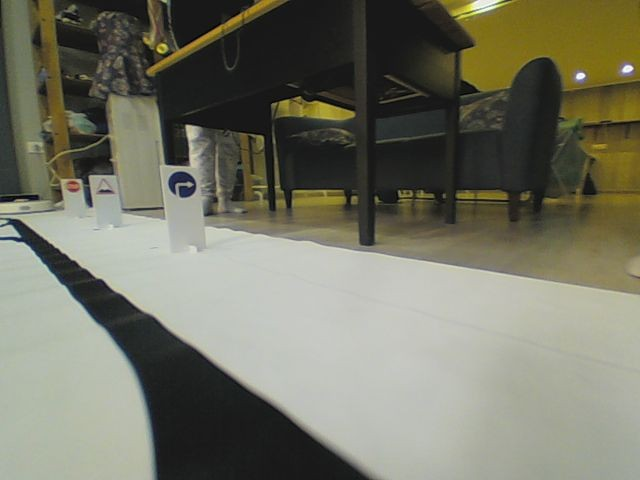Nerov: (93, 177, 116, 197)
Right: (165, 169, 196, 198)
